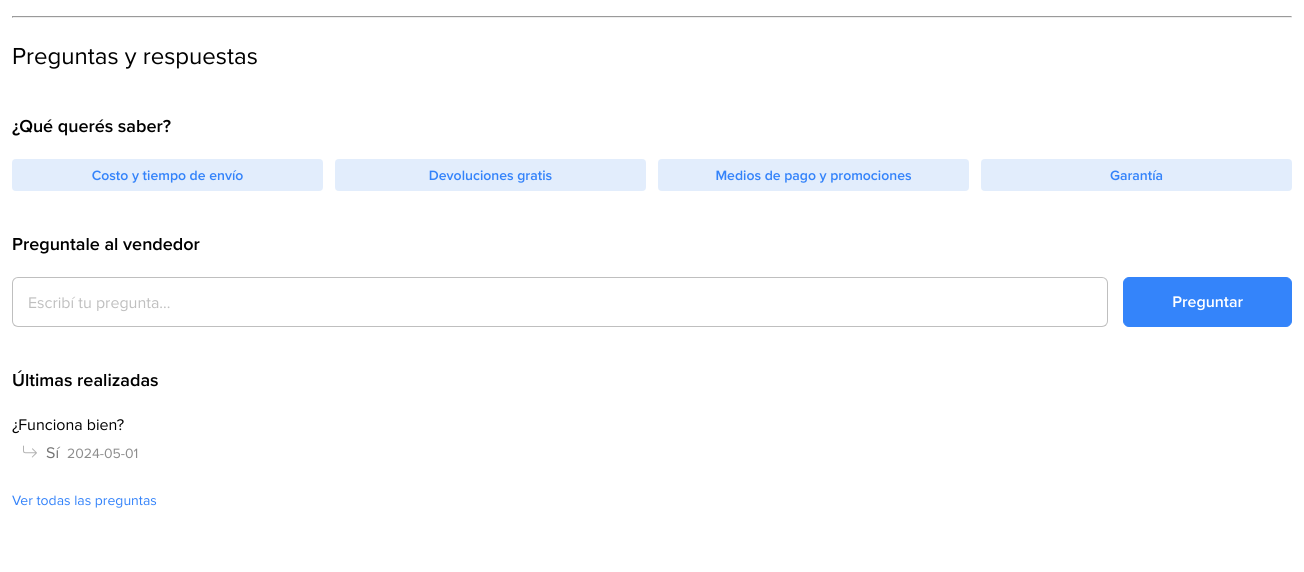
Test case: QuestionsAndAnswers › agrega nueva pregunta
The width and height of the screenshot is (1304, 572).
Type "¿Tiene garantía?" into the field with placeholder "Escribí tu pregunta...".
click(560, 302); type("¿Tiene garantía?")  # box [12, 277, 1108, 327]
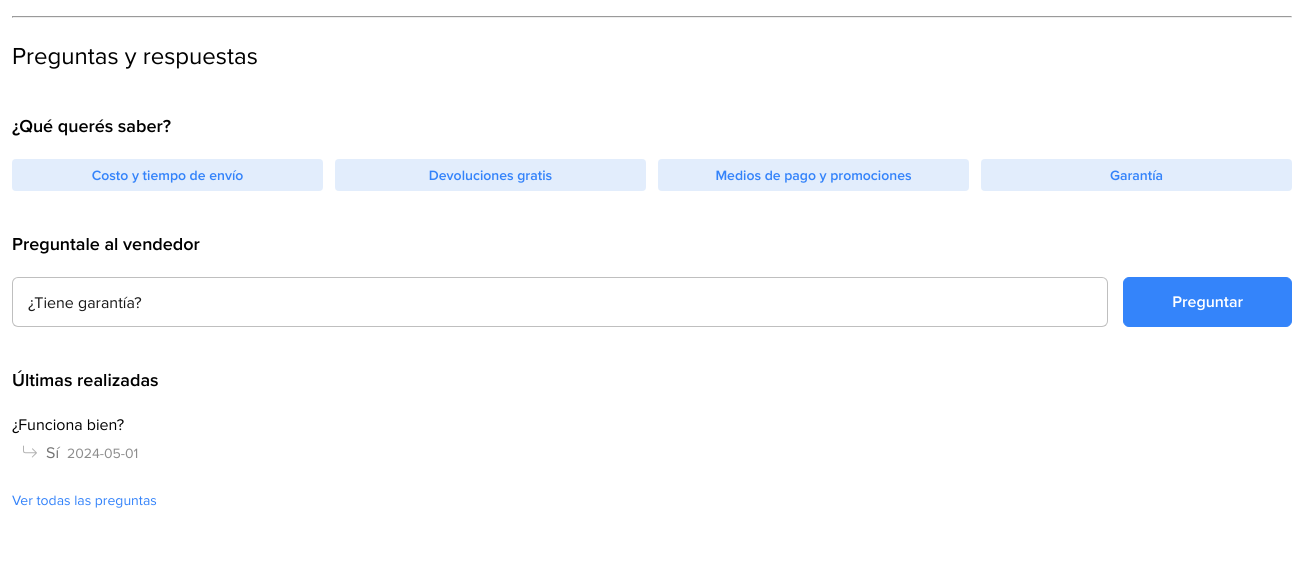
Click the button "Preguntar".
click(1208, 302)  # box [1123, 277, 1292, 327]
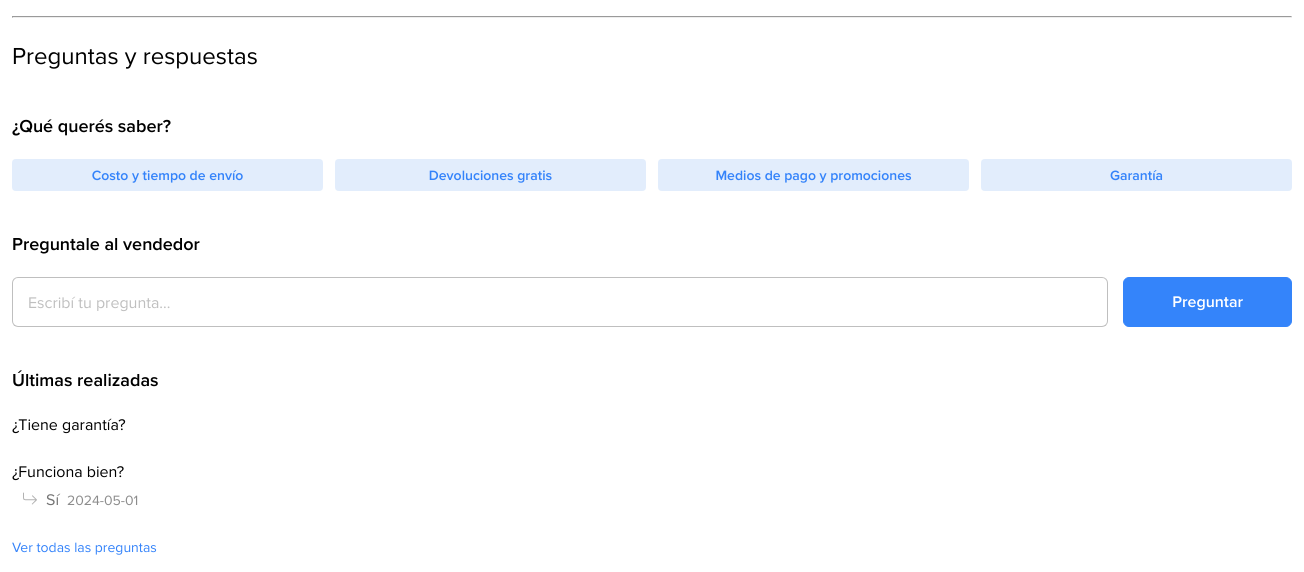
expect the text "¿Tiene garantía?" is shown: met, box [12, 413, 126, 436]
